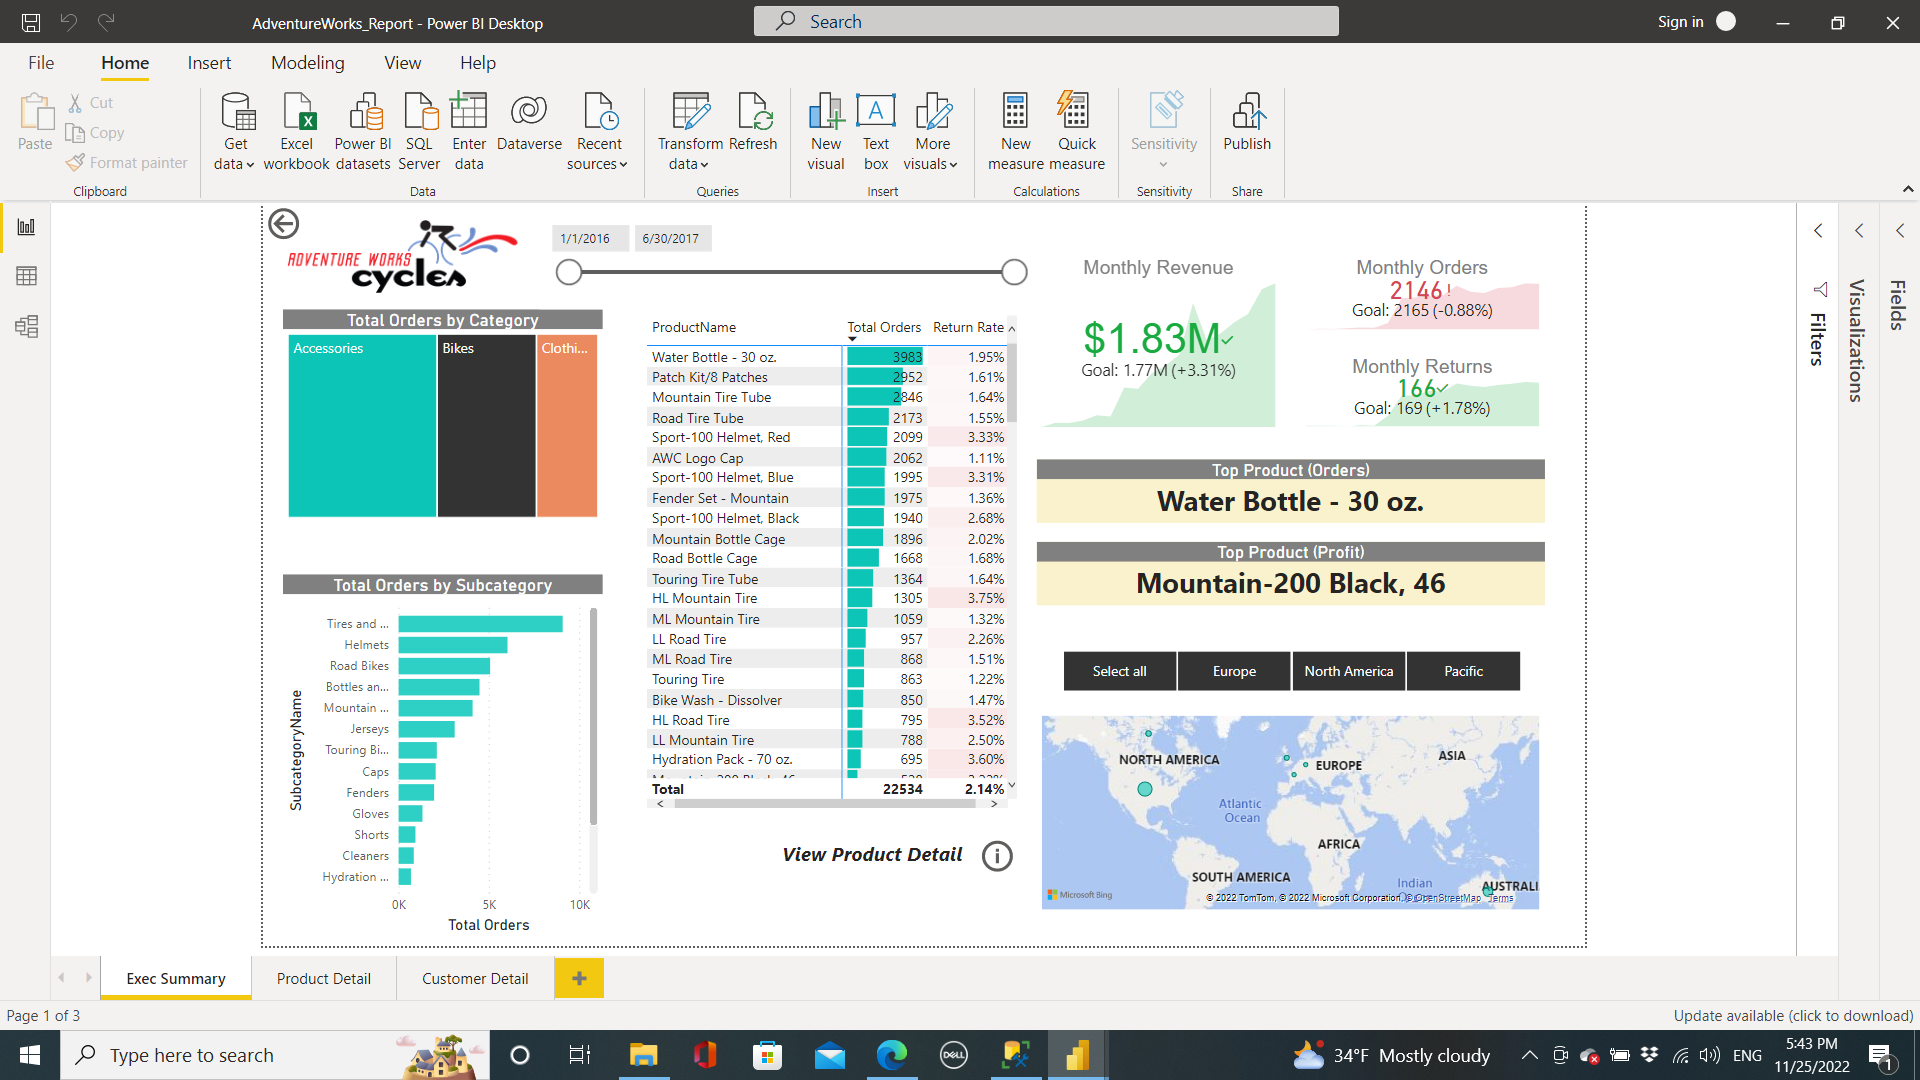

Layout of this report page (visuals, bound fields, positions):
{"tool":"powerbi","page":{"name":"Exec Summary","canvas":[1280,720],"ordinal":0},"visuals":[{"type":"actionButton","box":[0,0,100,40],"z":0},{"type":"image","box":[19.2,11,234.8,81],"z":1000},{"type":"barChart","title":"Total Orders by Subcategory","fields":{"Y":["AW_Sales.Total Orders"],"Category":["AW_Product_Subcategory_Lookup.SubcategoryName"]},"box":[19.4,359.4,309.8,353.3],"z":2000},{"type":"treemap","title":"Total Orders by Category","fields":{"Group":["AW_Product_Category_Lookup.CategoryName","AW_Product_Subcategory_Lookup.SubcategoryName"],"Values":["AW_Sales.Total Orders"]},"box":[19.4,102.9,309.8,206.9],"z":3000},{"type":"pivotTable","fields":{"Values":["AW_Sales.Total Orders","AW_Returns.Return Rate"],"Rows":["AW_Product_Category_Lookup.CategoryName","AW_Product_Subcategory_Lookup.SubcategoryName","AW_Product_Lookup.ProductName"]},"box":[366.7,104.1,367.9,486.5],"z":4000},{"type":"slicer","fields":{"Values":["AW_Calendar_Lookup.Date"]},"box":[267.8,11,480.7,92],"z":5000},{"type":"kpi","title":"Monthly Revenue","fields":{"Indicator":["AW_Sales.Total Revenue"],"TrendLine":["AW_Calendar_Lookup.Start of Month"],"Goal":["AW_Sales.Prev Month Revenue"]},"box":[749,52,236,169.4],"z":6000},{"type":"kpi","title":"Monthly Orders","fields":{"TrendLine":["AW_Calendar_Lookup.Start of Month"],"Goal":["AW_Sales.Prev Month Orders"],"Indicator":["AW_Sales.Total Orders"]},"box":[1004.4,52,236,75],"z":7000},{"type":"kpi","title":"Monthly Returns","fields":{"TrendLine":["AW_Calendar_Lookup.Start of Month"],"Goal":["AW_Returns.Prev Months Returns"],"Indicator":["AW_Returns.Total Returns"]},"box":[1004.4,147.6,236,73.8],"z":8000},{"type":"card","title":"Top Product (Orders)","fields":{"Values":["Min(AW_Product_Lookup.ProductName)"]},"box":[748.5,248.6,491.7,61.8],"z":9000},{"type":"card","title":"Top Product (Profit)","fields":{"Values":["Min(AW_Product_Lookup.ProductName)"]},"box":[748.5,328.2,491.7,61.8],"z":10000},{"type":"map","fields":{"Category":["AW_Territories_Lookup.Country"],"Size":["AW_Sales.Total Orders"]},"box":[748.5,491.7,491.7,197.8],"z":11000},{"type":"slicer","fields":{"Values":["AW_Territories_Lookup.Continent"]},"box":[748.5,427.1,491.7,52.2],"z":12000},{"type":"textbox","box":[497.3,612.3,193.6,39.9],"z":13000},{"type":"actionButton","box":[691,612.3,84.7,39.9],"z":14000}]}

Visuals, with their boxes on the page's 1280x720 design canvas (x1, y1, x2, y2). These are canvas units, not pixel positions in the 1920x1080 screenshot, which may show the page scaled, cropped or inside an application window:
actionButton: {"x1": 0, "y1": 0, "x2": 100, "y2": 40}
image: {"x1": 19, "y1": 11, "x2": 254, "y2": 92}
"Total Orders by Subcategory" barChart: {"x1": 19, "y1": 359, "x2": 329, "y2": 713}
"Total Orders by Category" treemap: {"x1": 19, "y1": 103, "x2": 329, "y2": 310}
pivotTable - AW_Sales.Total Orders x AW_Returns.Return Rate: {"x1": 367, "y1": 104, "x2": 735, "y2": 591}
slicer - AW_Calendar_Lookup.Date: {"x1": 268, "y1": 11, "x2": 748, "y2": 103}
"Monthly Revenue" kpi: {"x1": 749, "y1": 52, "x2": 985, "y2": 221}
"Monthly Orders" kpi: {"x1": 1004, "y1": 52, "x2": 1240, "y2": 127}
"Monthly Returns" kpi: {"x1": 1004, "y1": 148, "x2": 1240, "y2": 221}
"Top Product (Orders)" card: {"x1": 748, "y1": 249, "x2": 1240, "y2": 310}
"Top Product (Profit)" card: {"x1": 748, "y1": 328, "x2": 1240, "y2": 390}
map - AW_Territories_Lookup.Country x AW_Sales.Total Orders: {"x1": 748, "y1": 492, "x2": 1240, "y2": 690}
slicer - AW_Territories_Lookup.Continent: {"x1": 748, "y1": 427, "x2": 1240, "y2": 479}
textbox: {"x1": 497, "y1": 612, "x2": 691, "y2": 652}
actionButton: {"x1": 691, "y1": 612, "x2": 776, "y2": 652}
